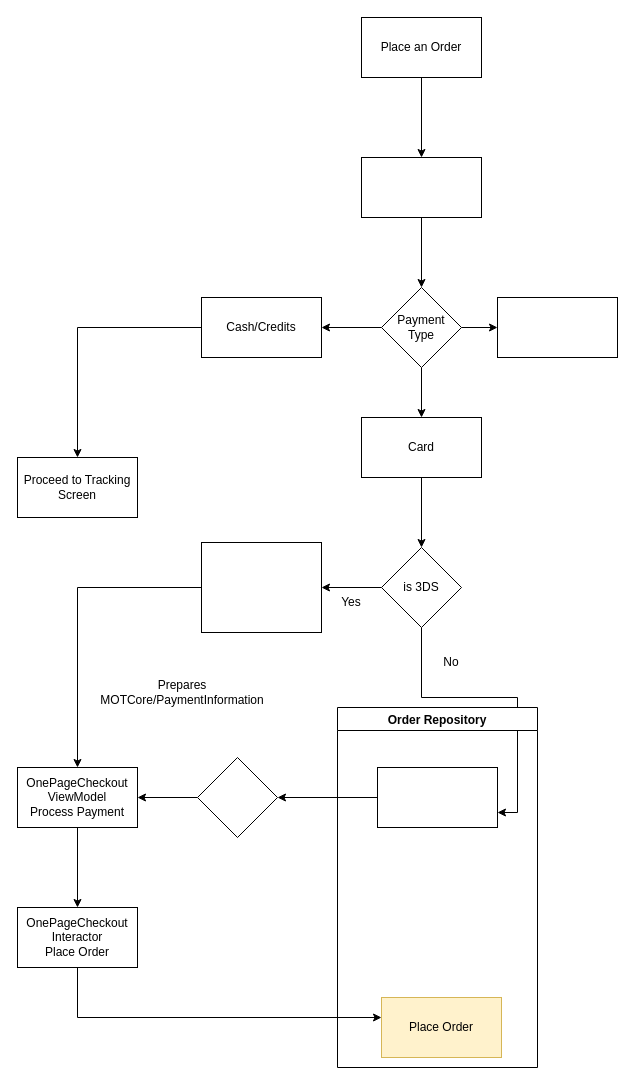
Image size: 635x1085. Some labels were removed from this diagram. The shapes that lost their labels are listed below. From the top down, each one's centre as x and y in pixels, then its label:
pixel 421 187: CheckoutViewModel proceeds to Checkout
pixel 557 327: Apple Pay
pixel 261 587: OnePageCheckout ViewModel process 3ds secure payment
pixel 237 797: Success
pixel 437 797: Pre Charge
